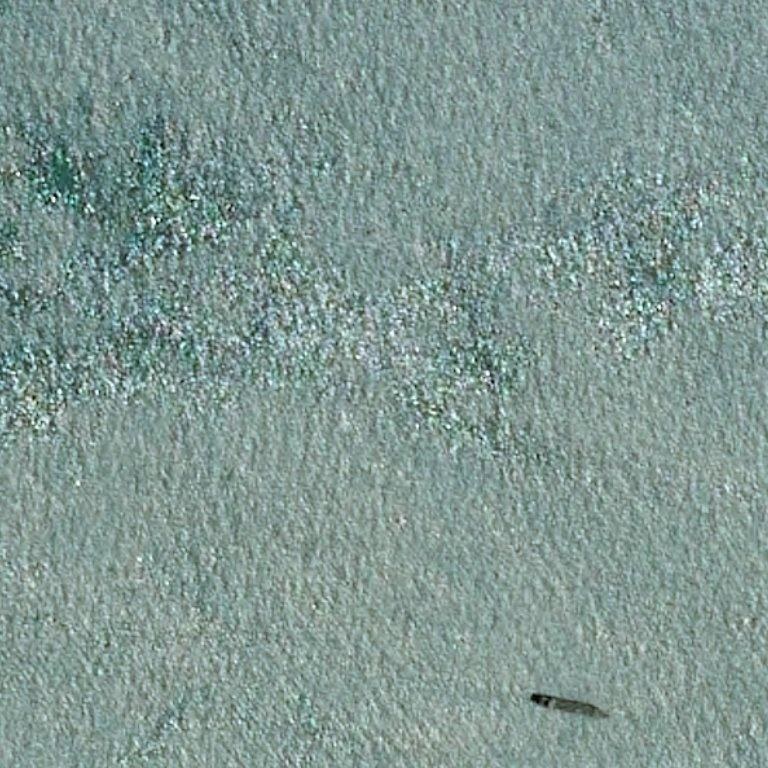ship: (567, 685, 573, 713), (606, 713, 611, 717), (533, 694, 536, 699), (528, 700, 531, 703)
